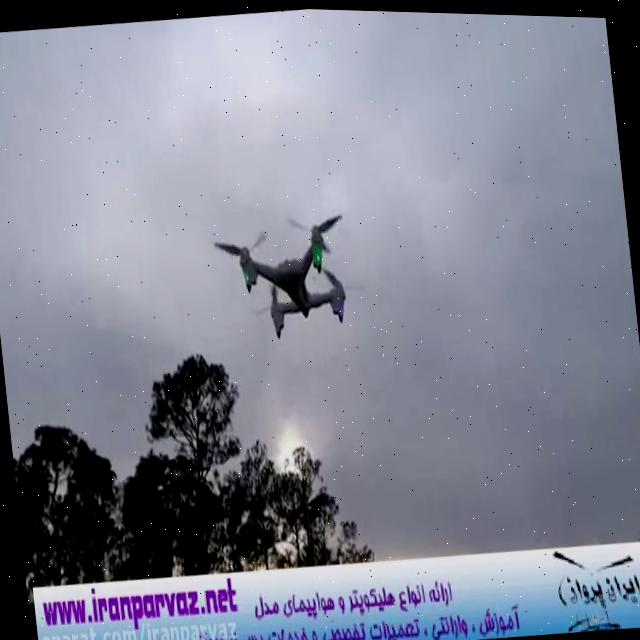drone: (205, 197, 368, 348)
